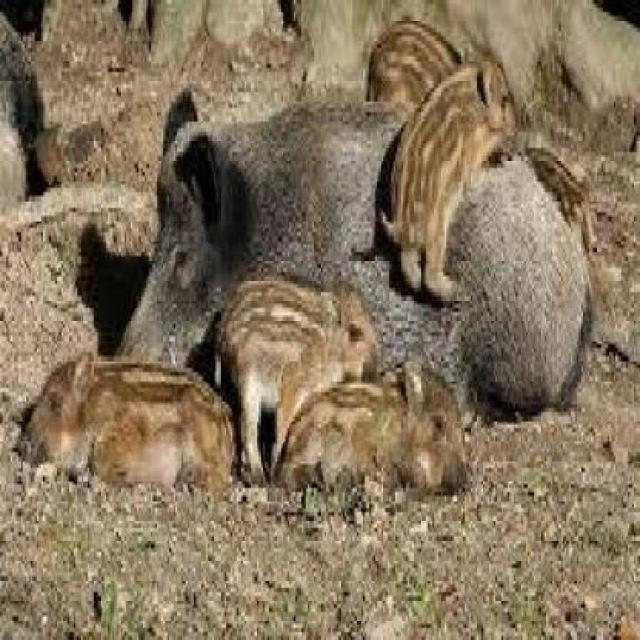wildboar: (104, 75, 601, 436), (205, 260, 389, 492), (12, 345, 250, 524), (377, 43, 525, 314), (272, 350, 474, 524), (360, 11, 489, 178), (500, 132, 602, 274)
